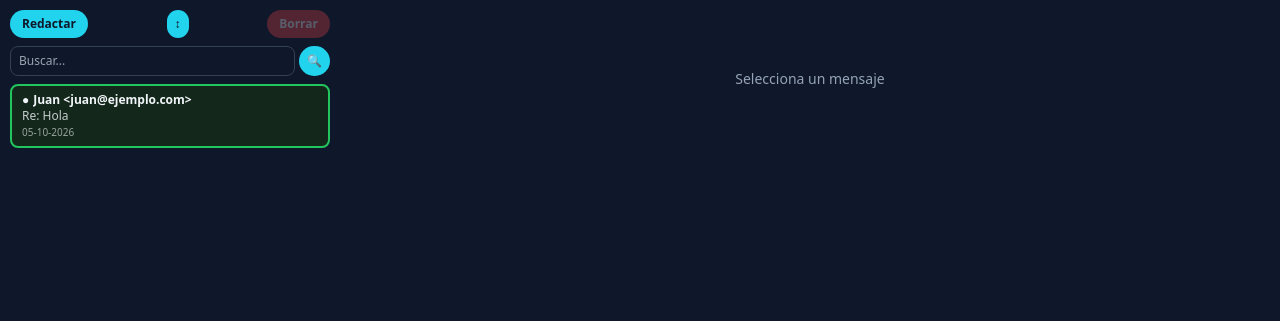
Test case: CorreoPage — reenviar › responder a un asunto que ya lleva Re: no lo apila
This screenshot has width=1280, height=321.
What coordinates should you click on to do the following:
click the text "Juan <juan@ejemplo.com>"
I would click on:
 (112, 100)
Its box is [33, 92, 192, 108].
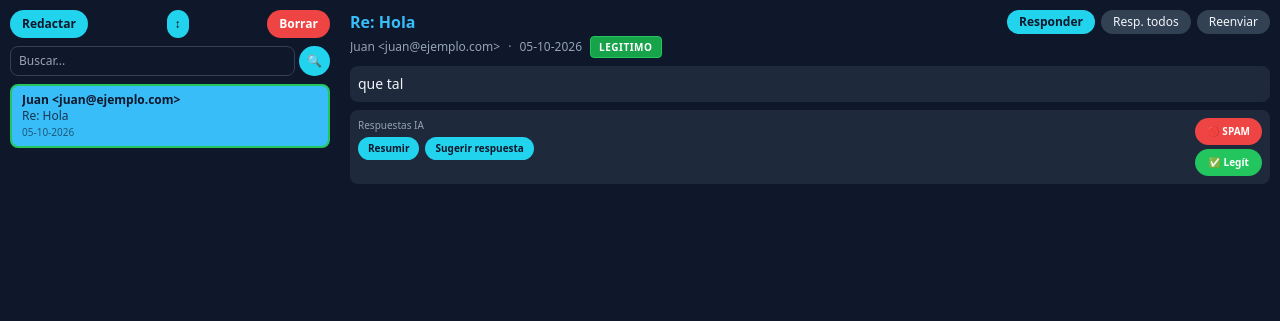
Note: hay dos botones «Responder» (el de acción y el chip IA decorativo): el bueno es el primero
What coordinates should you click on to do the following:
click the button "Responder"
I would click on:
 (1051, 22)
Its box is [1007, 10, 1095, 34].
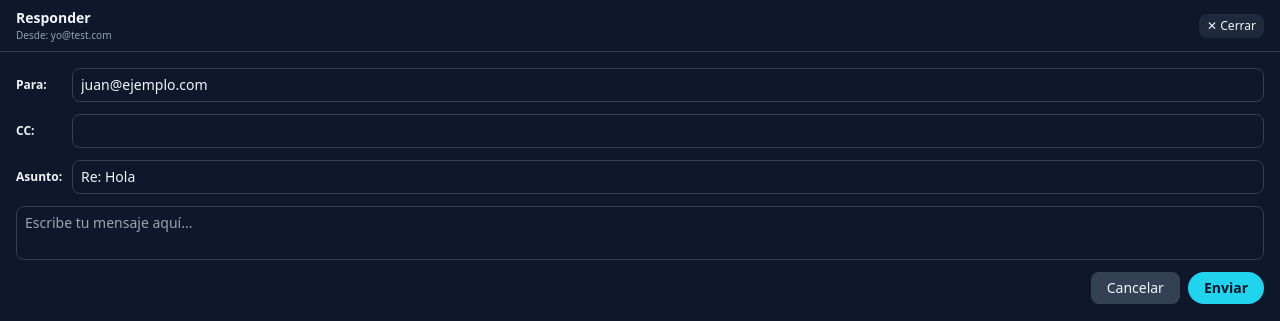
Check: the field showing "Re: Hola" next to "Asunto:" is shown, box [72, 160, 1264, 194]
